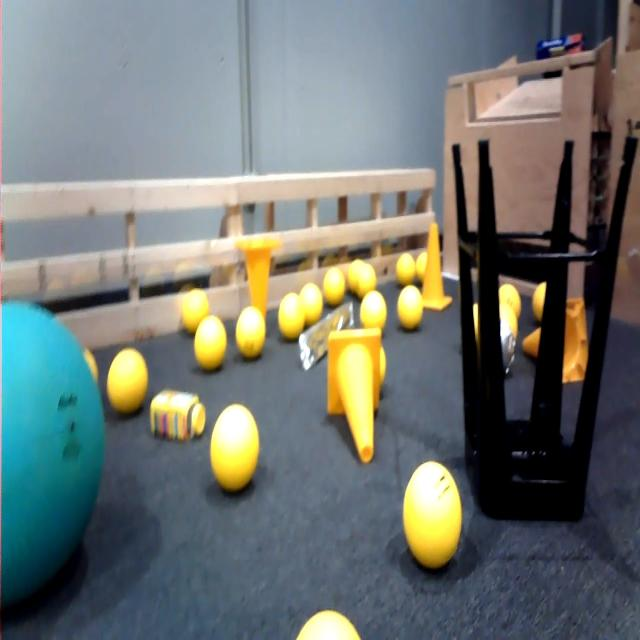fuel: (397, 447, 468, 574), (206, 395, 270, 500), (102, 340, 153, 420), (289, 596, 367, 640), (232, 298, 276, 362), (193, 310, 230, 379), (274, 286, 309, 349), (394, 281, 429, 336), (360, 289, 390, 342), (321, 260, 351, 312), (300, 273, 325, 327), (182, 283, 212, 326), (354, 256, 380, 300), (498, 280, 524, 316), (530, 280, 550, 325), (396, 252, 418, 285)
